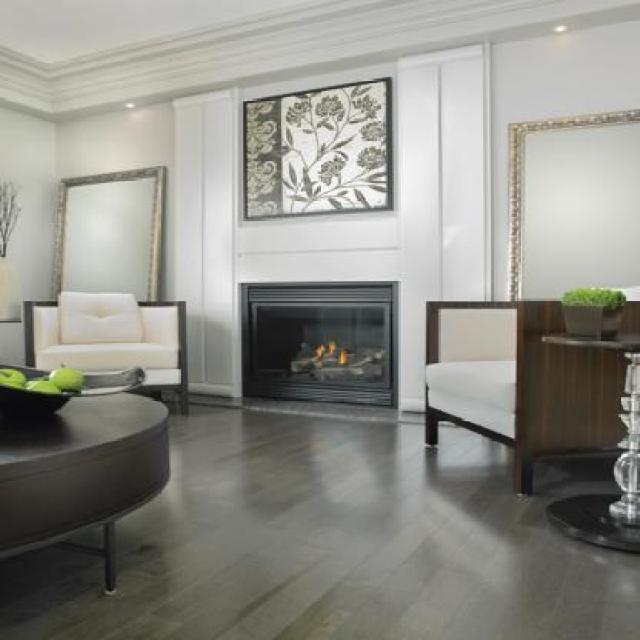Fire: (300, 341, 360, 374)
